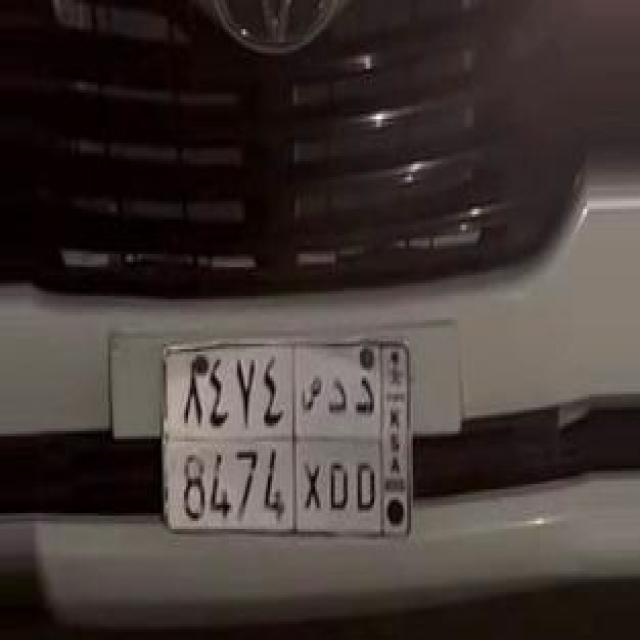Car-plate: (143, 306, 440, 580)
